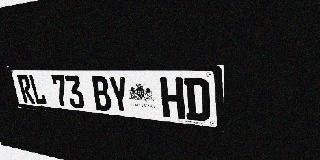3: (64, 75, 85, 109)
7: (50, 75, 71, 108)
B: (90, 76, 113, 112)
D: (184, 78, 210, 122)
H: (160, 77, 185, 119)
L: (28, 75, 47, 105)
R: (17, 74, 35, 104)
Y: (108, 76, 131, 114)
